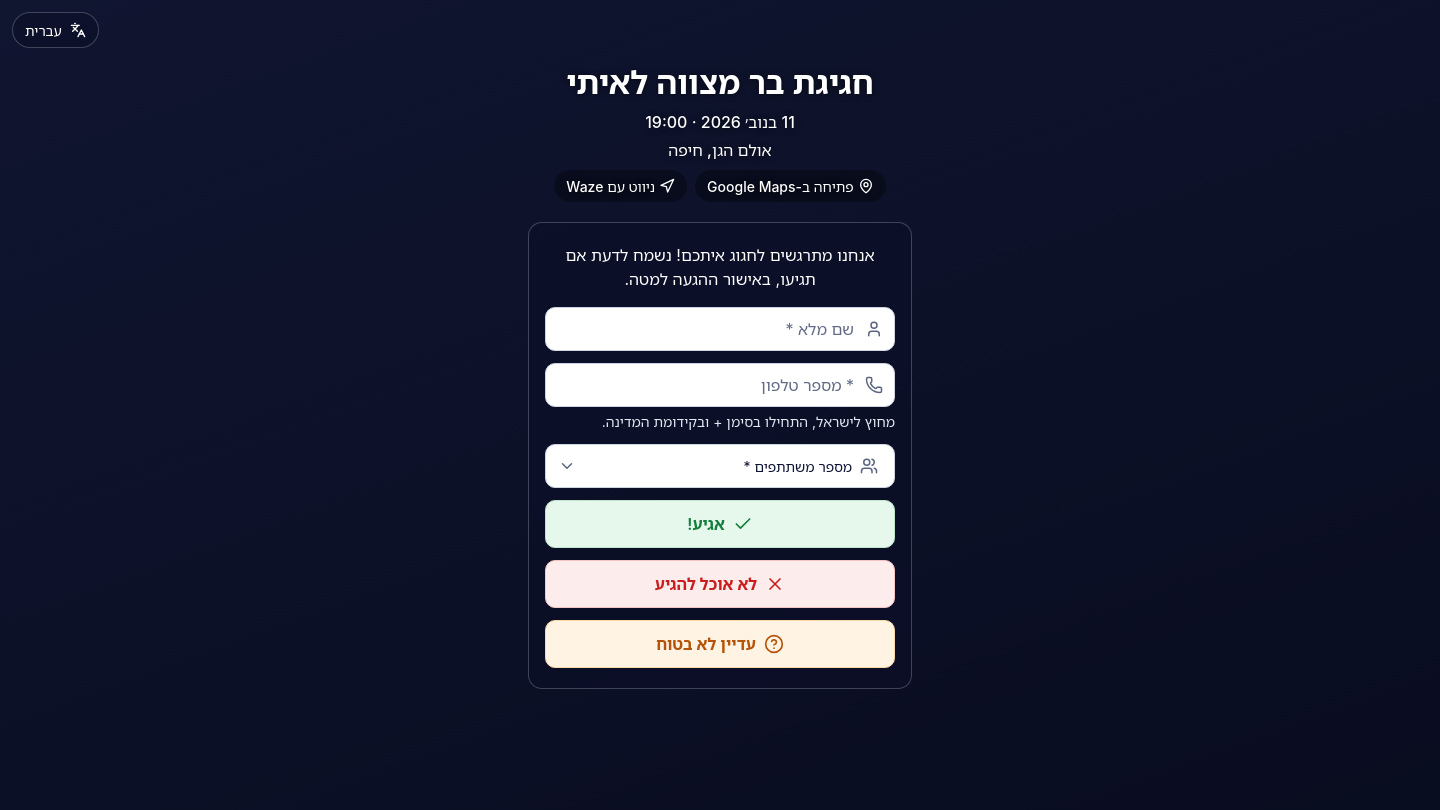
Test case: Public RSVP page › opens in the event’s language and lets the guest switch
Expected: the heading "חגיגת בר מצווה לאיתי" is shown, left=566, top=63, right=874, bottom=102
Expected: the button "אגיע!" is shown, left=545, top=500, right=895, bottom=548
Click the button with aria-label "שפה". click: (55, 30)
box: left=12, top=12, right=99, bottom=48
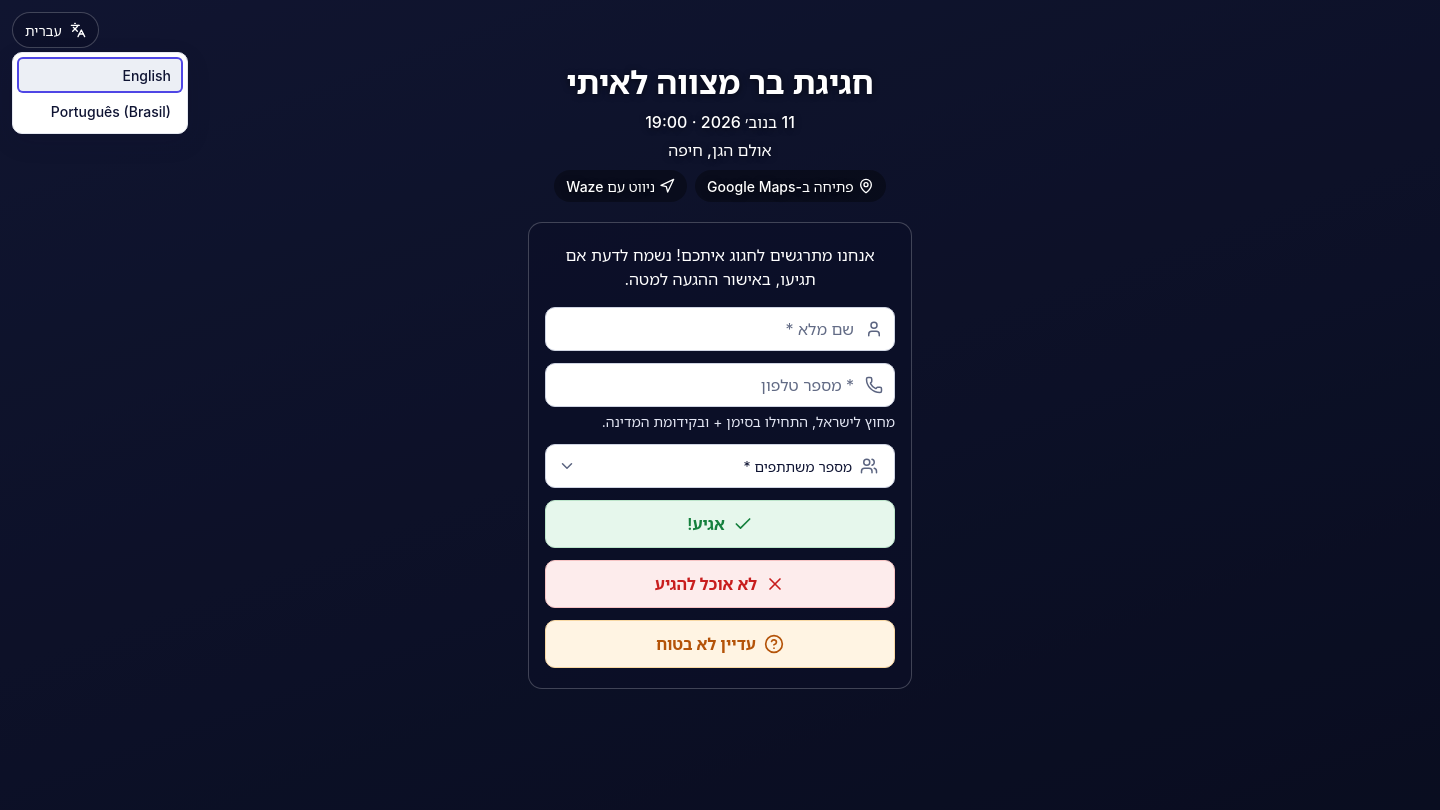
Now the menu items read "English", "Português (Brasil)", in this order
Click the menu item "English". click: (100, 75)
box: left=17, top=57, right=183, bottom=93
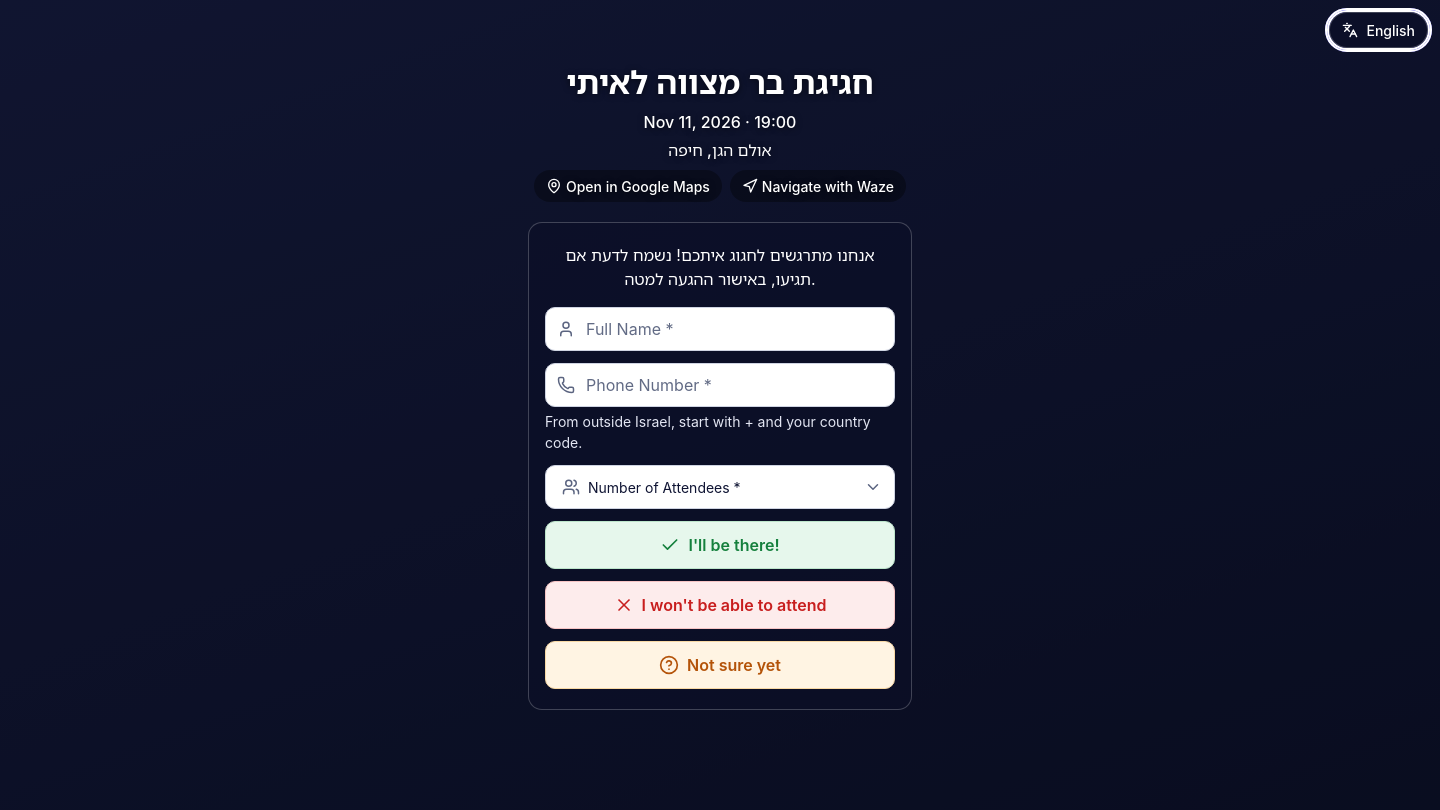
Now the button "I'll be there!" is shown, box left=545, top=521, right=895, bottom=569
Now the button with aria-label "Language" reads "English", box left=1329, top=12, right=1428, bottom=48
